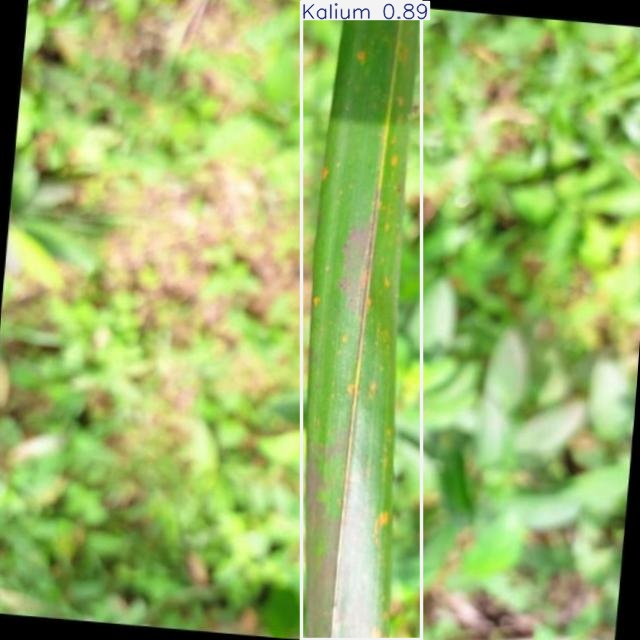Kalium: (301, 1, 422, 640)
